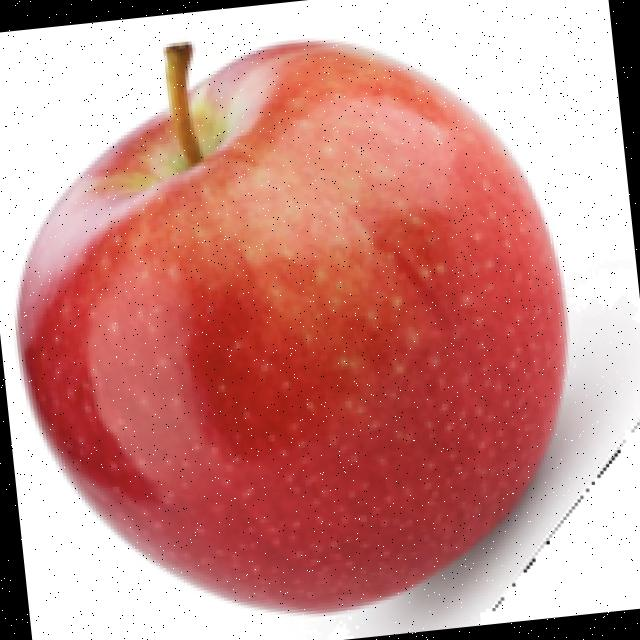apple: (9, 34, 640, 636)
